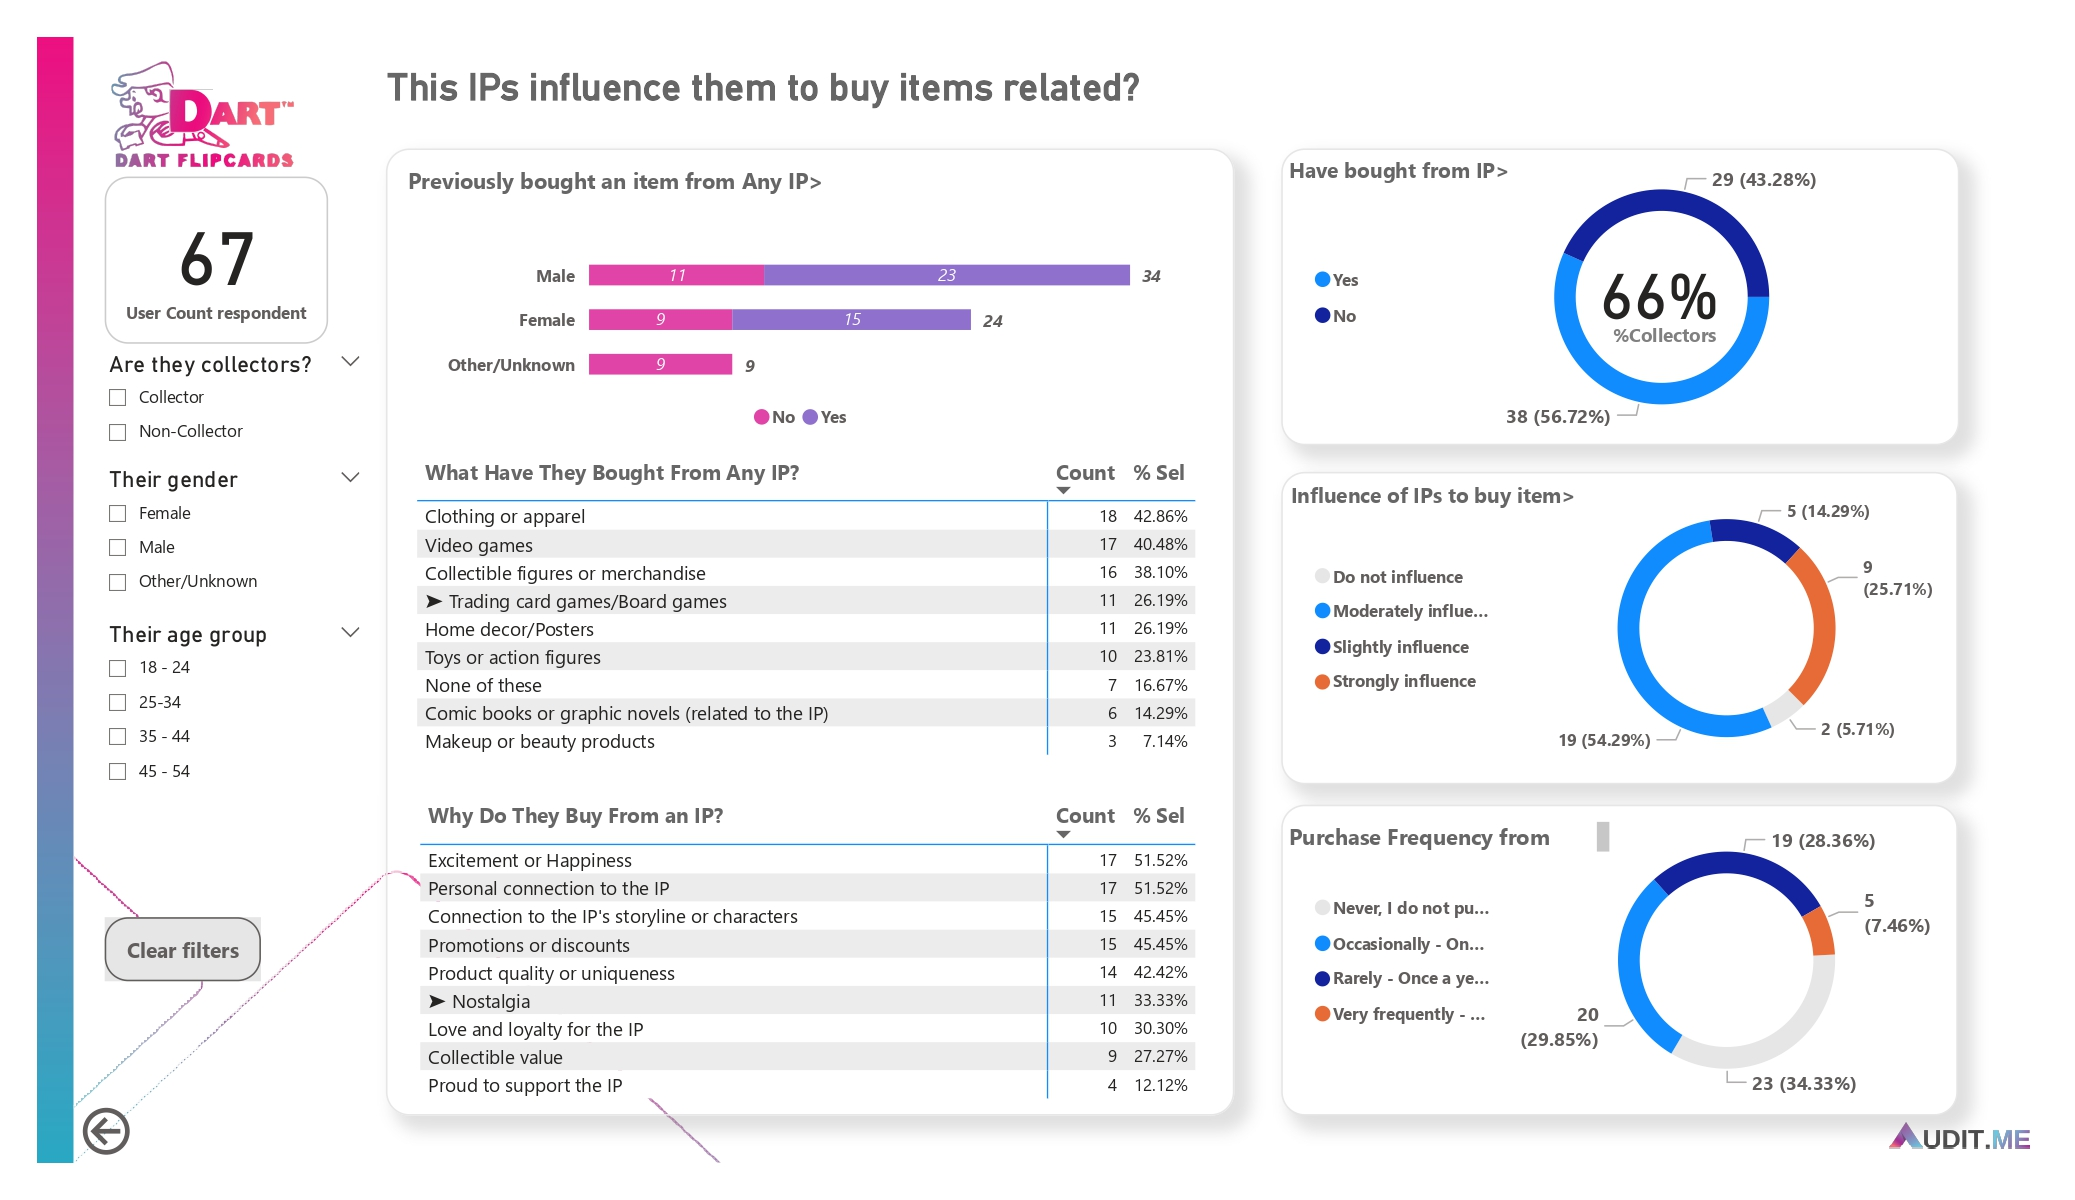

What the dashboard file says about the page in this screenshot:
{"tool":"powerbi","page":{"name":"What/why they bought from IP","canvas":[1280,720],"ordinal":2},"visuals":[{"type":"donutChart","fields":{"Y":["Raw Data-Original.Count Buy of IP"],"Category":["Raw Data-Original.Q10-R_U_BUYER"]},"box":[795.6,71.1,434.4,190],"z":0},{"type":"shape","box":[222.5,71.2,543.8,618.8],"z":1000},{"type":"slicer","fields":{"Values":["Raw Data-Original.Gender"]},"box":[32.5,270,186.2,98.8],"z":2000},{"type":"slicer","fields":{"Values":["Raw Data-Original.Q2-Age Group"]},"box":[32.5,368.8,186.2,116.2],"z":3000},{"type":"slicer","fields":{"Values":["Raw Data-Original.Collector habits"]},"box":[32.5,196.2,186.2,73.8],"z":4000},{"type":"actionButton","box":[23.8,680,100,40],"z":5000},{"type":"card","fields":{"Values":["Raw Data-Original.User Count respondent"]},"box":[42.5,89.5,143.8,106.2],"z":6000},{"type":"image","box":[1180,683.8,100,36.2],"z":7000},{"type":"textbox","box":[219.3,13.1,547.2,45.5],"z":8000},{"type":"textbox","box":[232.2,76.7,353.3,31.1],"z":9000},{"type":"image","box":[0,0,210,97.5],"z":10000},{"type":"actionButton","box":[42.5,562.5,100,41.2],"z":11000},{"type":"pivotTable","fields":{"Rows":["What They Bought-Data.What They bought from ANY IP"],"Values":["What They Bought-Data.Count What Was bought","What They Bought-Data.Bought %"]},"box":[237.5,262.5,515,205],"z":12000},{"type":"pivotTable","fields":{"Values":["Why Buy Ip.Count Why BuyIP","Why Buy Ip.BuyIP %"],"Rows":["Why Buy Ip.Why buy from IP"]},"box":[240,482.5,516.2,202.5],"z":13000},{"type":"donutChart","fields":{"Y":["CountNonNull(Raw Data-Original.Q12-Influence of IP)"],"Series":["Raw Data-Original.Q12-Influence of IP"]},"box":[795.6,277.8,433.3,200],"z":14000},{"type":"donutChart","fields":{"Y":["CountNonNull(Raw Data-Original.How often do you find yourself buying products related to your favorite intellectual prop"],"Series":["Raw Data-Original.How often do you find yourself buying products related to your favorite intellectual properties (IPs i"]},"box":[795.6,491.1,433.3,198.9],"z":15000},{"type":"barChart","fields":{"Category":["Raw Data-Original.Gender"],"Y":["Raw Data.Count Buy of IP"],"Series":["Raw Data-Original.Q10-R_U_BUYER"]},"box":[256.2,121.2,467.5,140],"z":16000},{"type":"textbox","box":[795.6,71.1,184.4,31.1],"z":17000},{"type":"textbox","box":[796.7,278.9,215.6,31.1],"z":18000},{"type":"textbox","box":[795.6,496.7,215.6,31.1],"z":19000},{"type":"textbox","box":[987.1,176.1,108.6,30],"z":20000},{"type":"card","fields":{"Values":["Raw Data-Original.CollectorsYes"]},"box":[978.6,138.6,117.1,45.7],"z":21000}]}

Visuals, with their boxes on the page's 1280x720 design canvas (x1, y1, x2, y2). These are canvas units, not pixel positions in the 2075x1200 screenshot, which may show the page scaled, cropped or inside an application window:
donutChart - Raw Data-Original.Count Buy of IP x Raw Data-Original.Q10-R_U_BUYER: bbox=[796, 71, 1230, 261]
shape: bbox=[222, 71, 766, 690]
slicer - Raw Data-Original.Gender: bbox=[32, 270, 219, 369]
slicer - Raw Data-Original.Q2-Age Group: bbox=[32, 369, 219, 485]
slicer - Raw Data-Original.Collector habits: bbox=[32, 196, 219, 270]
actionButton: bbox=[24, 680, 124, 720]
card - Raw Data-Original.User Count respondent: bbox=[42, 90, 186, 196]
image: bbox=[1180, 684, 1280, 720]
textbox: bbox=[219, 13, 766, 59]
textbox: bbox=[232, 77, 586, 108]
image: bbox=[0, 0, 210, 98]
actionButton: bbox=[42, 562, 142, 604]
pivotTable - What They Bought-Data.What They bought from ANY IP x What They Bought-Data.Count What Was bought: bbox=[238, 262, 752, 468]
pivotTable - Why Buy Ip.Count Why BuyIP x Why Buy Ip.BuyIP %: bbox=[240, 482, 756, 685]
donutChart - CountNonNull(Raw Data-Original.Q12-Influence of IP) x Raw Data-Original.Q12-Influence of IP: bbox=[796, 278, 1229, 478]
donutChart - CountNonNull(Raw Data-Original.How often do you find yourself buying products related to your favorite intellectual prop x Raw Data-Original.How often do you find yourself buying products related to your favorite intellectual properties (IPs i: bbox=[796, 491, 1229, 690]
barChart - Raw Data-Original.Gender x Raw Data.Count Buy of IP: bbox=[256, 121, 724, 261]
textbox: bbox=[796, 71, 980, 102]
textbox: bbox=[797, 279, 1012, 310]
textbox: bbox=[796, 497, 1011, 528]
textbox: bbox=[987, 176, 1096, 206]
card - Raw Data-Original.CollectorsYes: bbox=[979, 139, 1096, 184]
